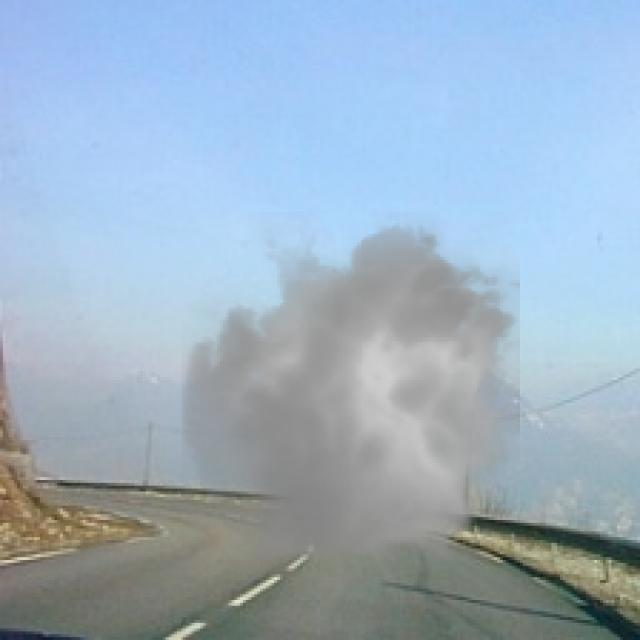smoke: (169, 211, 537, 583)
